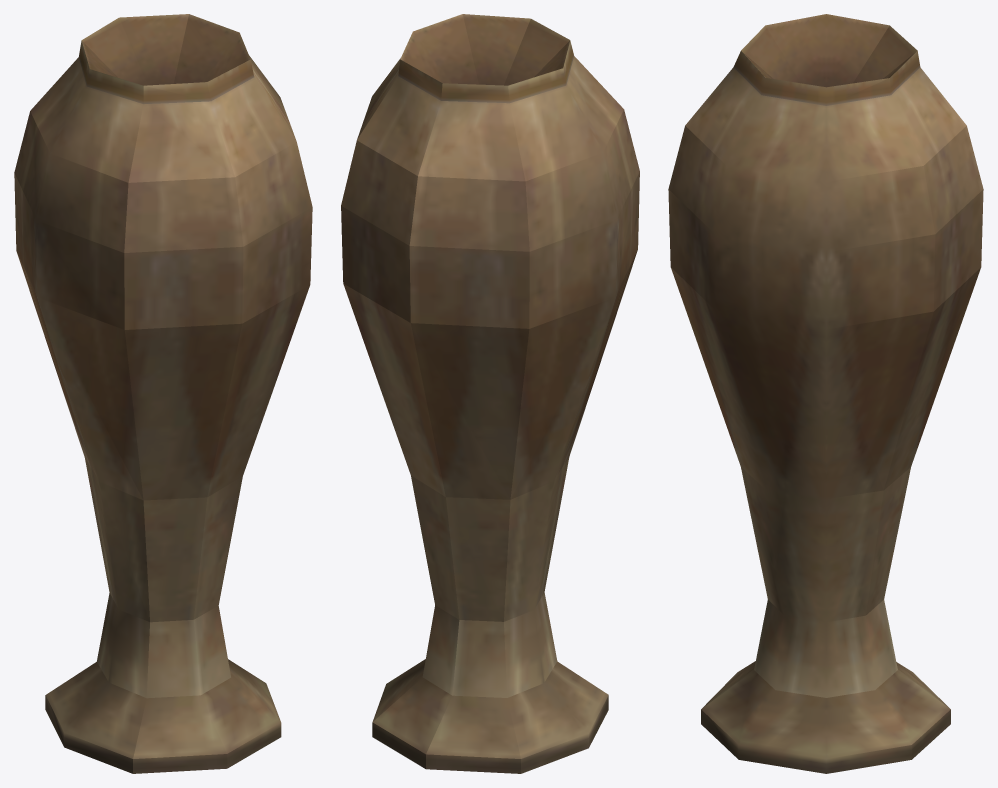
Rendered from bg_lut_lucastle_flowerpot02_sm_artree.FBX.
3 renders of one model, left to right at view 1: azimuth 30°, elevation 25°; view 2: azimuth 150°, elevation 25°; view 3: azimuth 270°, elevation 25°, orthographic.
Visible parts, largest first — view 1: bg_lut_lucastle_flowerpot02_sm_artree; view 2: bg_lut_lucastle_flowerpot02_sm_artree; view 3: bg_lut_lucastle_flowerpot02_sm_artree.
Part boxes in pixels (x1,y1,x2,y2): bg_lut_lucastle_flowerpot02_sm_artree: (14, 14, 312, 773); bg_lut_lucastle_flowerpot02_sm_artree: (341, 14, 639, 773); bg_lut_lucastle_flowerpot02_sm_artree: (668, 14, 983, 773).
Bounding box in the file's own units: 36.25 × 90.34 × 38.29.
